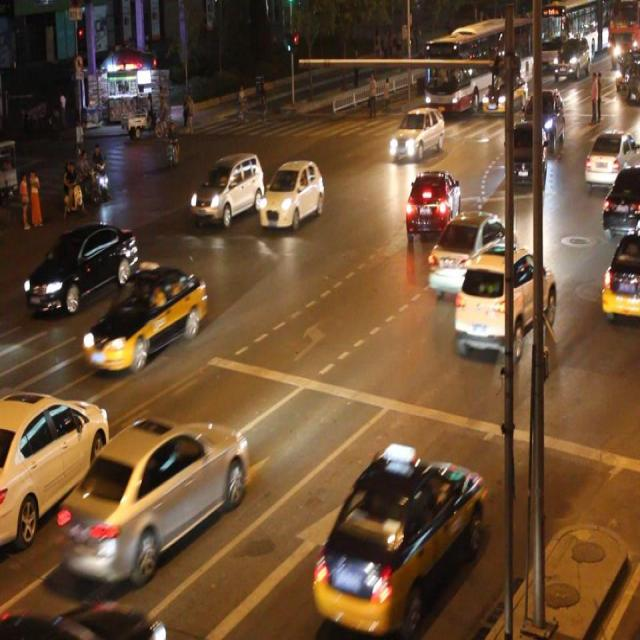car: (58, 414, 248, 582), (314, 455, 482, 628), (1, 389, 110, 540), (453, 242, 556, 359), (86, 268, 206, 367), (27, 222, 136, 311), (428, 208, 515, 292), (0, 598, 151, 640), (191, 155, 264, 221), (259, 160, 324, 229), (403, 167, 458, 241), (600, 234, 640, 317), (584, 129, 640, 186), (504, 120, 546, 191), (388, 107, 443, 158), (600, 164, 640, 234)
